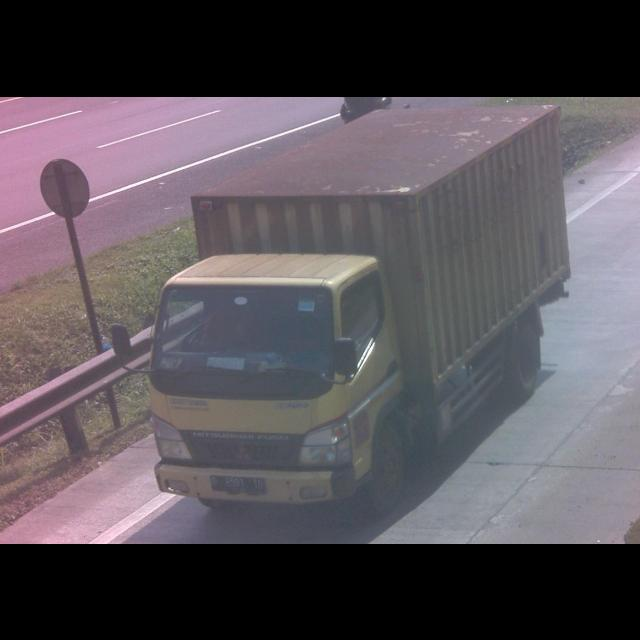plate: (208, 470, 270, 496)
